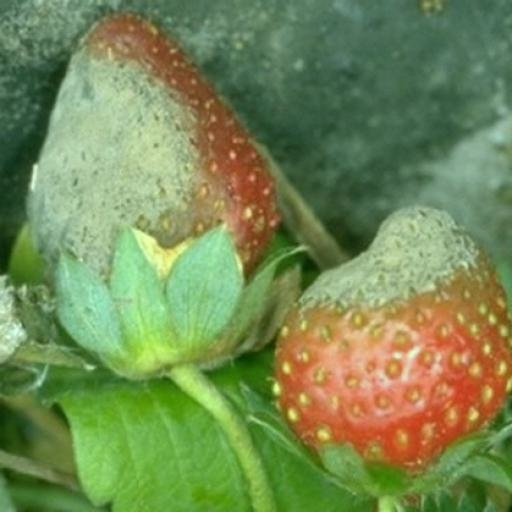Gray Mold: (231, 213, 489, 484), (4, 171, 235, 308)
